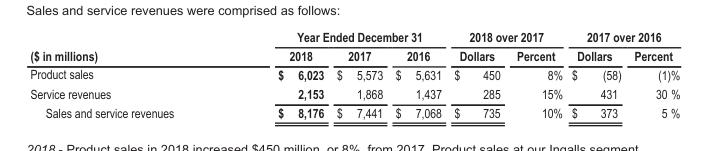table: (29, 28, 679, 120)
table column: (29, 28, 225, 120), (225, 28, 329, 120), (566, 28, 627, 120), (447, 28, 507, 120), (329, 28, 388, 120), (388, 28, 447, 120), (507, 28, 566, 120), (627, 28, 679, 120)
table column header: (29, 28, 679, 64)
table row: (29, 45, 679, 64), (29, 64, 679, 83), (29, 83, 679, 102), (29, 102, 679, 120), (29, 28, 679, 45)
table spanning cell: (29, 28, 225, 64), (225, 28, 447, 45), (447, 28, 566, 45), (566, 28, 679, 45)
